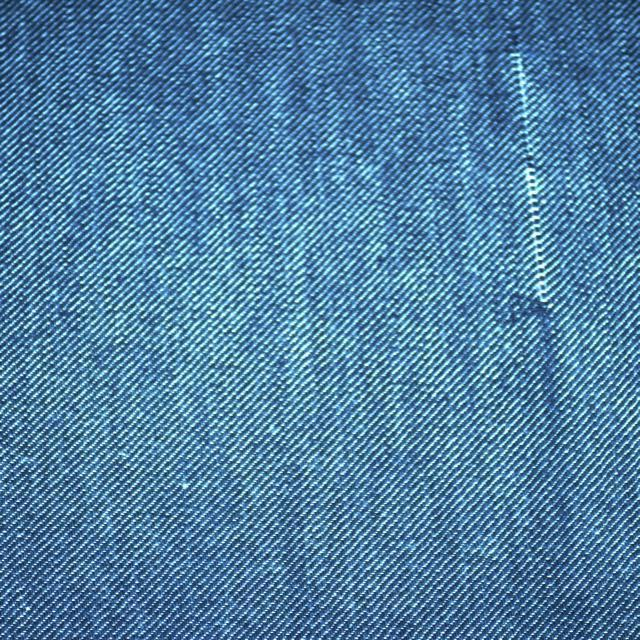Line: (504, 31, 561, 429)
